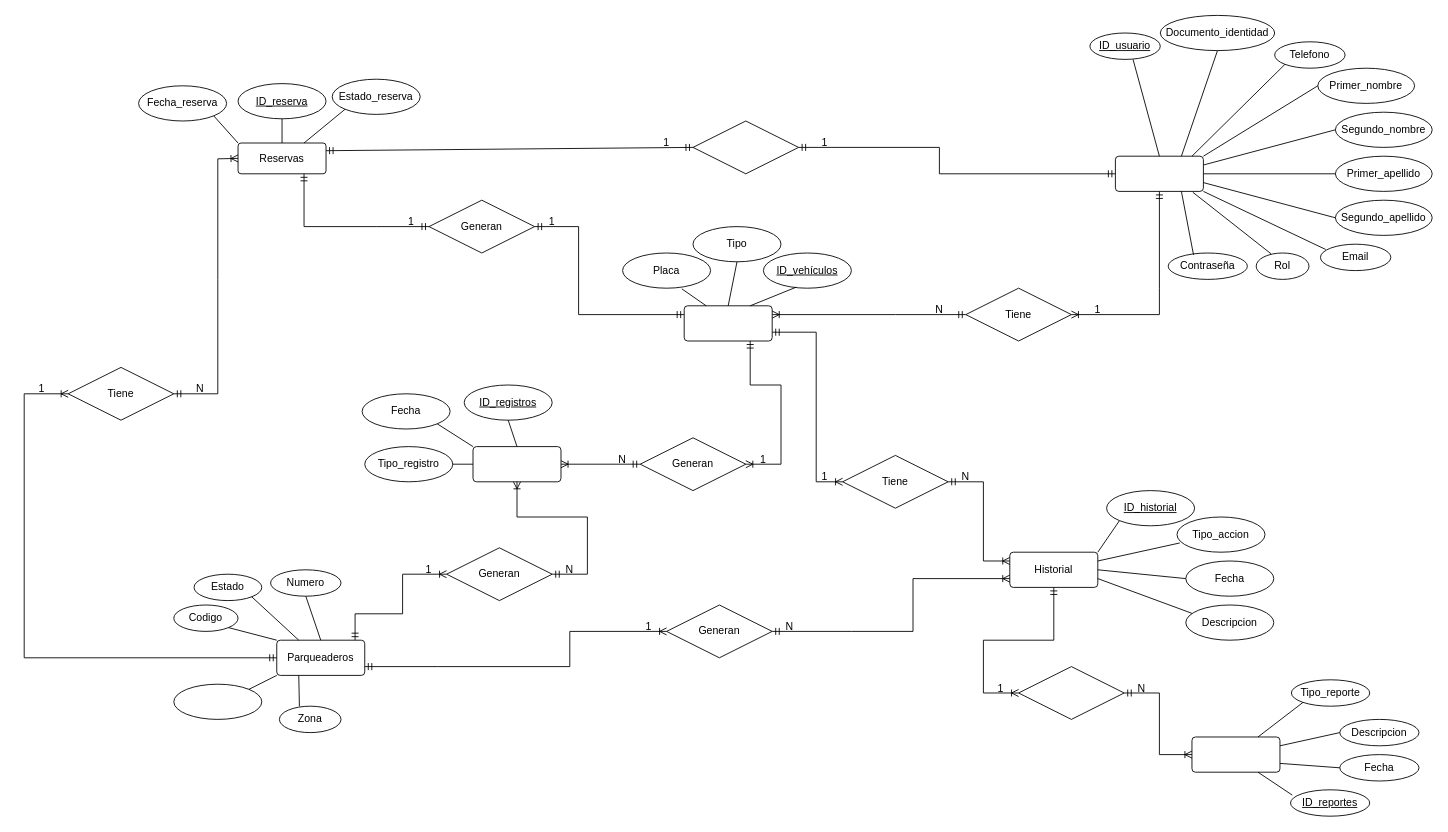
Image size: 1448x832. Some labels were removed from this diagram. Here are the shapes that lost their labels. From the top down, the centre of each, then its label:
At point 745,147: "Realizan".
At point 1159,173: "Usuarios".
At point 727,323: "Vehículos".
At point 516,464: "Registros".
At point 217,701: "ID_parqueadero".
At point 1071,692: "Genera".
At point 1235,754: "Reportes".
